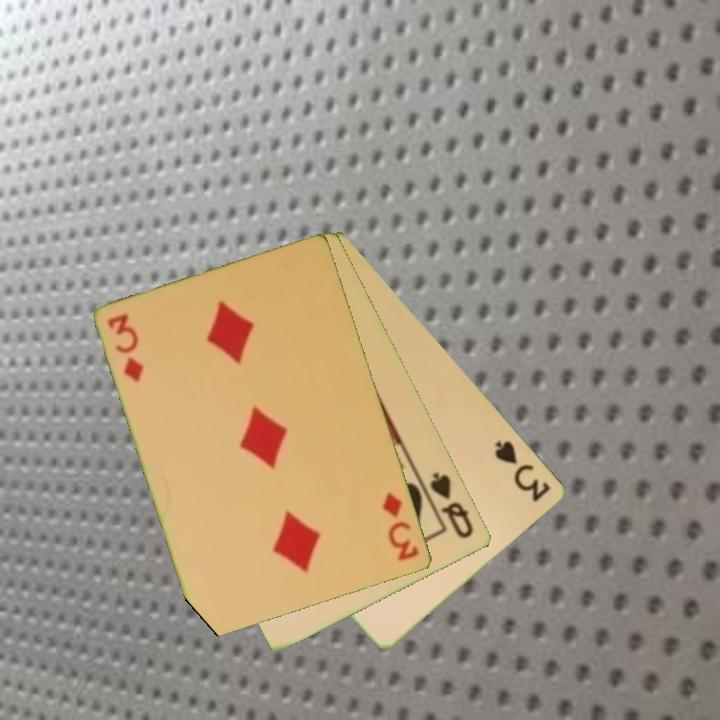3d: (379, 489, 423, 564), (104, 310, 148, 385)
3s: (491, 437, 554, 505)
Qs: (427, 468, 477, 542)
